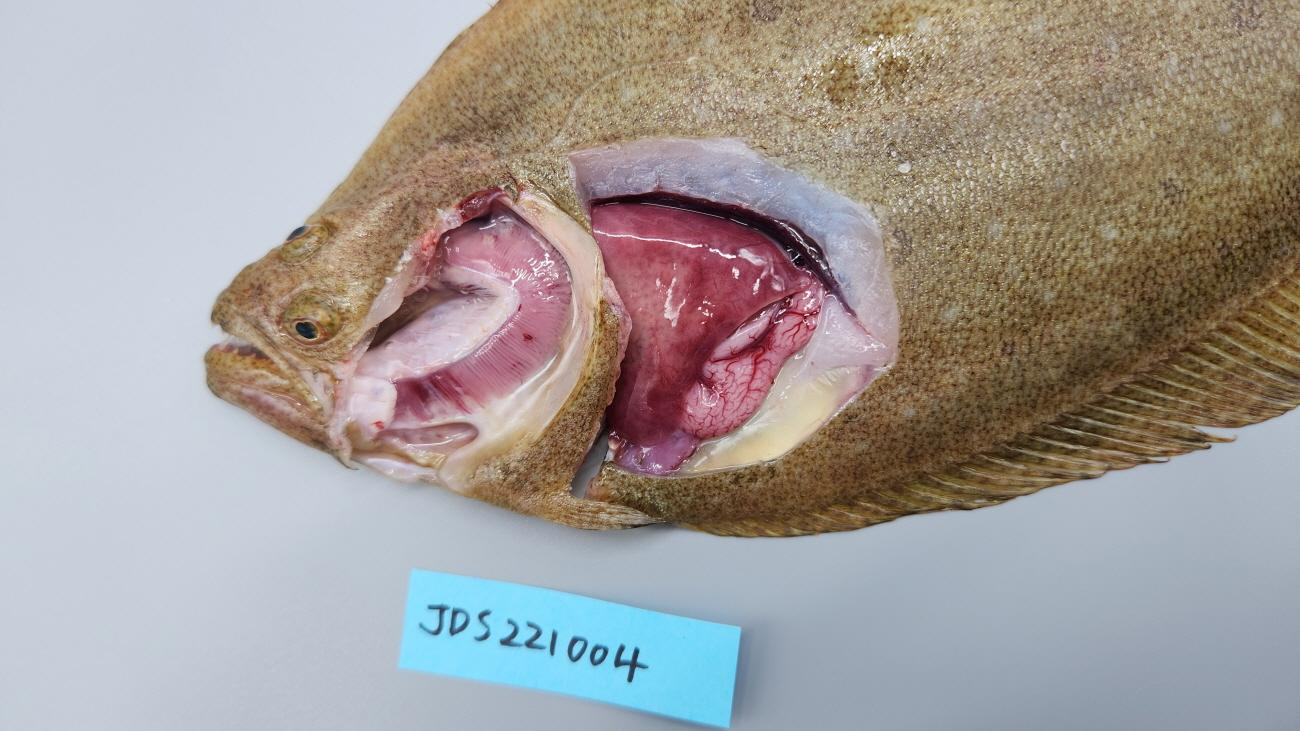VIGIP: (393, 213, 572, 421)
VILIC: (592, 205, 809, 439)
